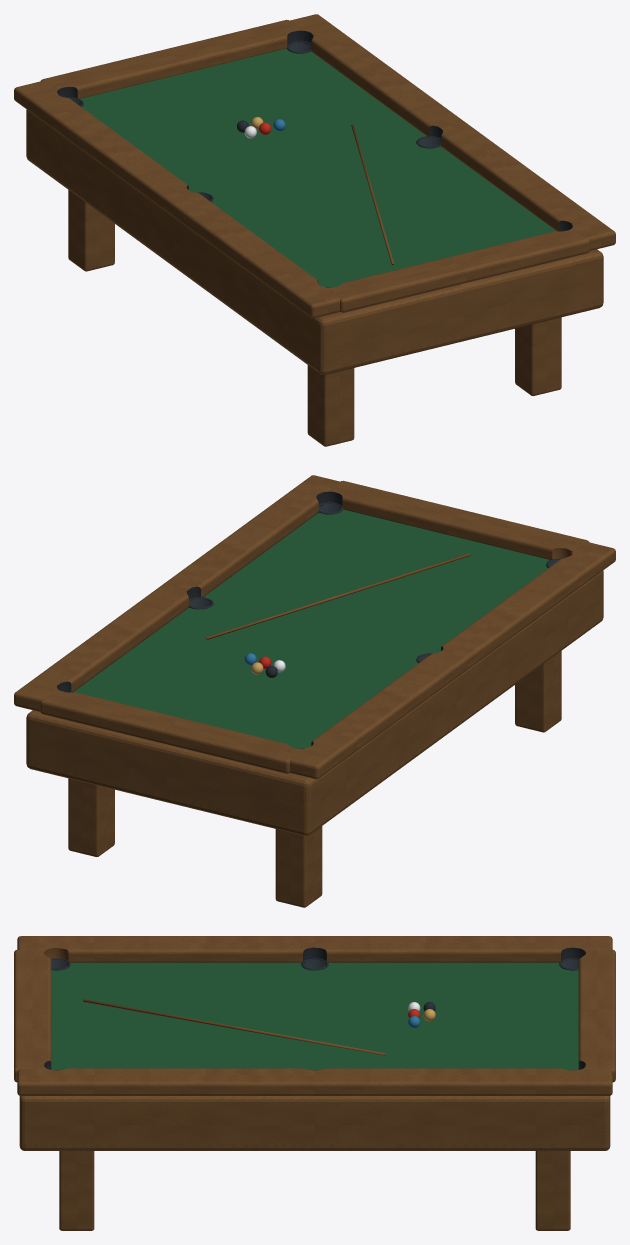
File: billiards.glb
The picture shows the model from 3 angles, top to bottom: view 1: azimuth 30°, elevation 25°; view 2: azimuth 150°, elevation 25°; view 3: azimuth 270°, elevation 25°; orthographic projection.
Parts seen in each view (by area): view 1: billiards-table — STATIC material batch; view 2: billiards-table — STATIC material batch; view 3: billiards-table — STATIC material batch.
Boxes of the visible parts, <box> form: billiards-table — STATIC material batch: <box>14,14,615,446</box>; billiards-table — STATIC material batch: <box>14,475,615,907</box>; billiards-table — STATIC material batch: <box>14,936,615,1230</box>.
Size of the model in its own units: 1.59 by 0.8249 by 2.73.
Materials: 7 (7 with a texture image).
